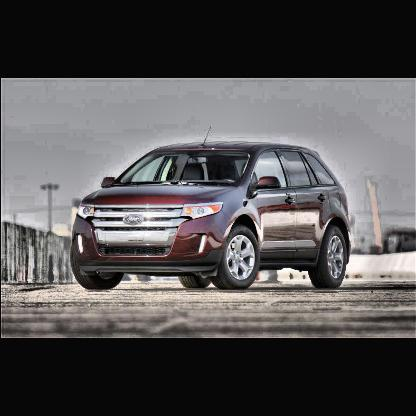Ford Edge SUV 2012: (71, 141, 354, 289)
